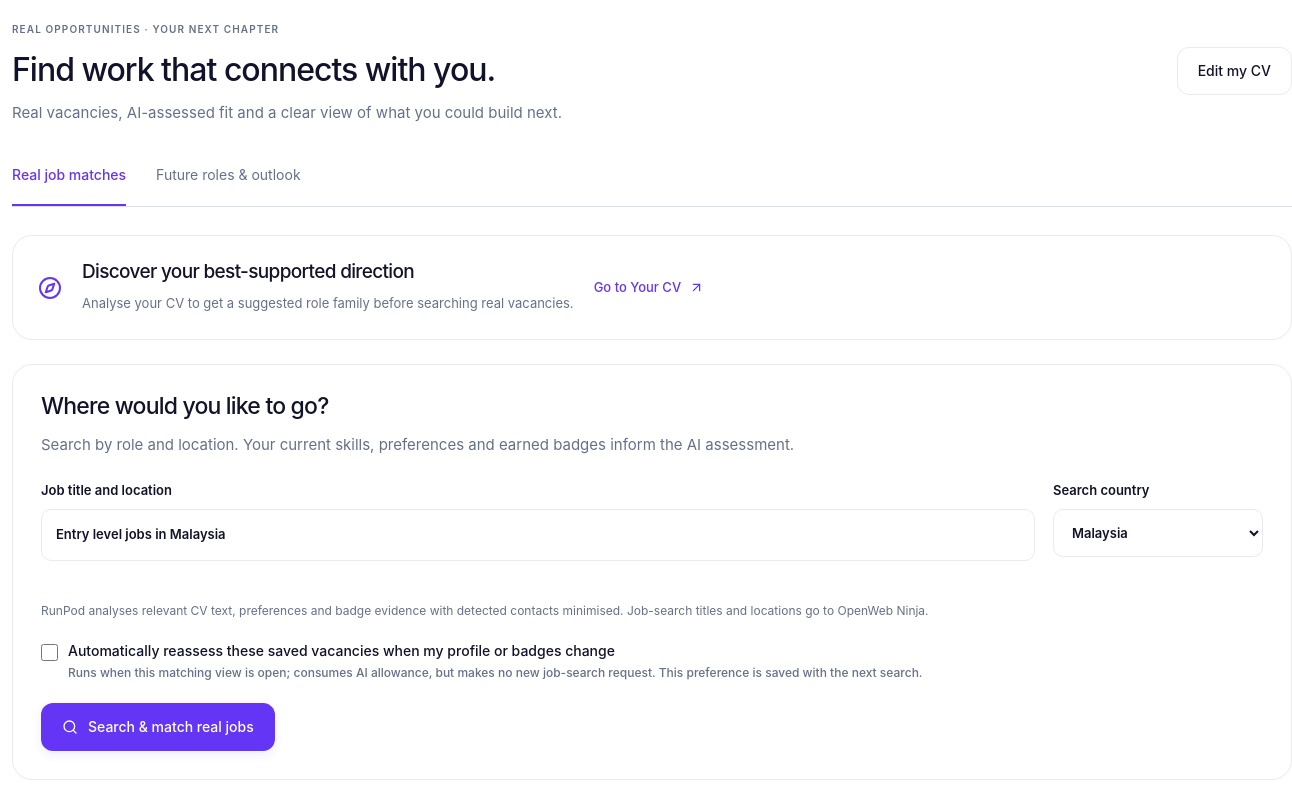
Test: never substitutes fake jobs or scores when a search fails
What coordinates should you click on to do the following:
click the button "Search & match real jobs"
I would click on:
 (158, 727)
Its box is left=41, top=703, right=275, bottom=751.
(page scrolled)
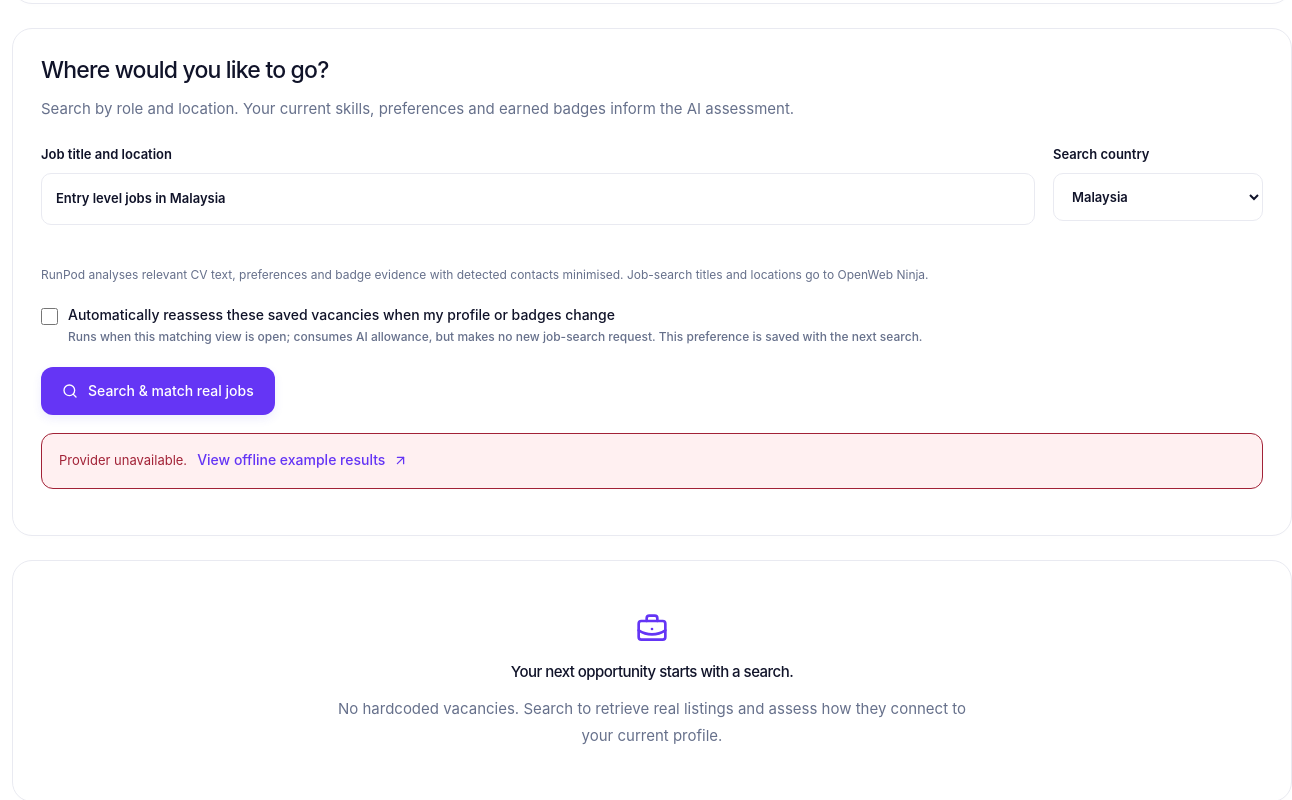
Now the message shows "Provider unavailable", box left=59, top=452, right=187, bottom=468
